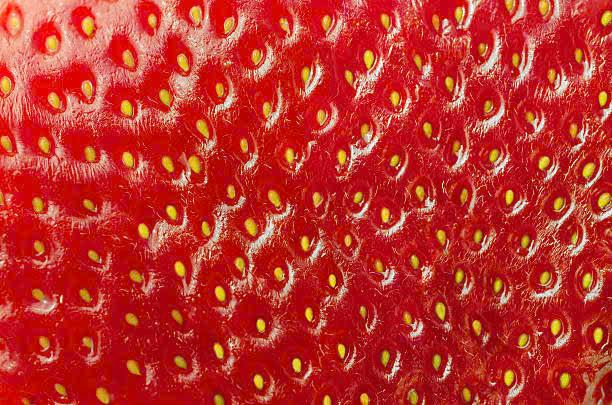strawberry: (1, 1, 598, 405)
